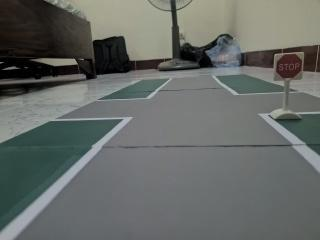stop: (272, 45, 307, 89)
